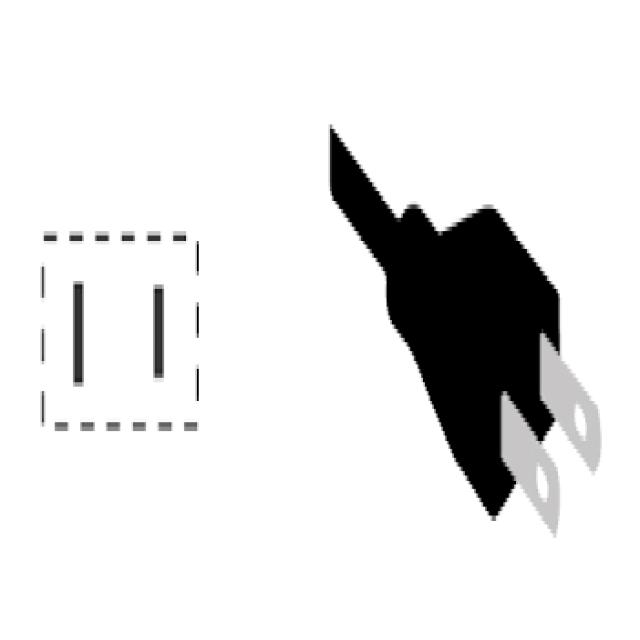type_a: (30, 168, 212, 482)
